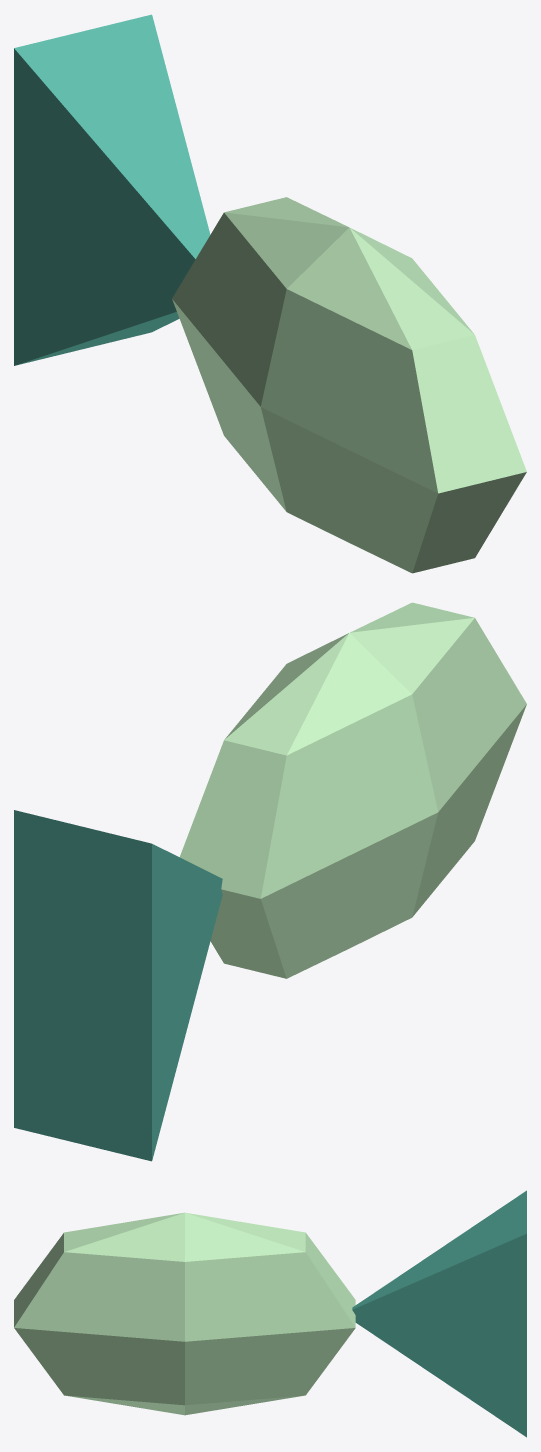
The model's file is fish.glb.
3 views of the same model, one above another, from view 1: azimuth 30°, elevation 25°; view 2: azimuth 150°, elevation 25°; view 3: azimuth 270°, elevation 25° (orthographic). The views are drawn at different scales.
Parts seen in each view (by area): view 1: Fish; view 2: Fish; view 3: Fish.
Boxes of the visible parts, x1,y1,x2,y2 form: Fish: [14, 14, 526, 573]; Fish: [14, 602, 526, 1161]; Fish: [14, 1190, 526, 1437].
Bounding box in the file's own units: 0.1 × 0.1711 × 0.3899.
